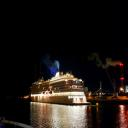cruises: (29, 69, 93, 109)
